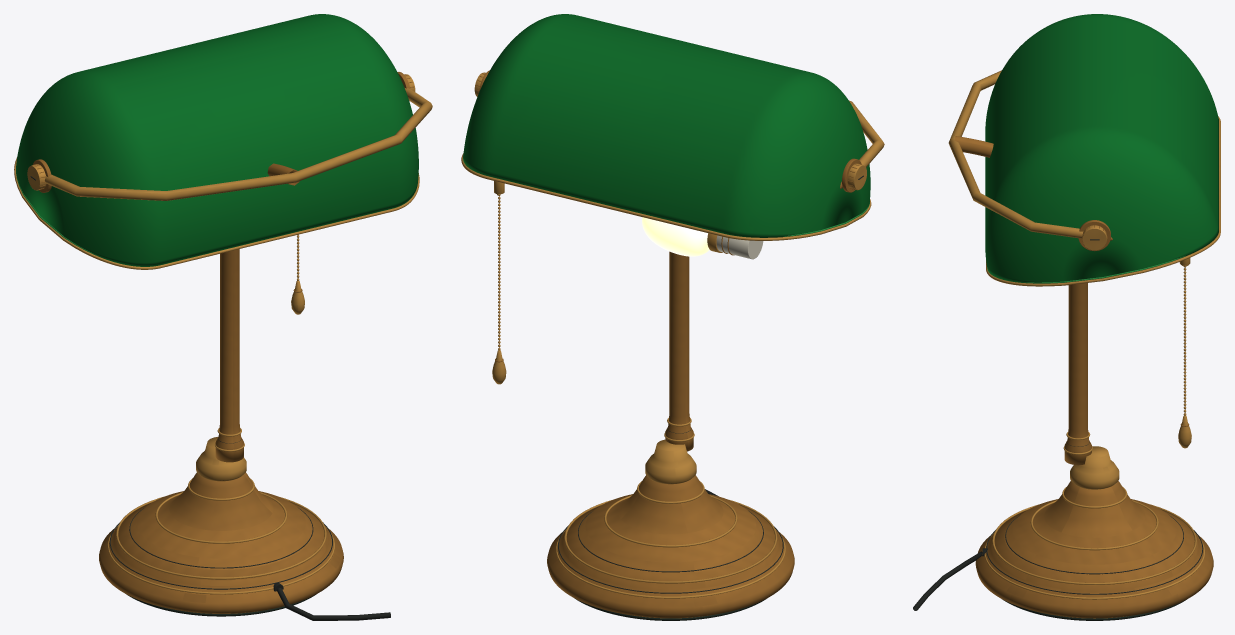
File: BankersLamp.fbx
3 renders of one model, left to right at view 1: azimuth 30°, elevation 25°; view 2: azimuth 150°, elevation 25°; view 3: azimuth 270°, elevation 25°, orthographic. The views are drawn at different scales.
Visible parts, largest first — view 1: Shade_GreenGlass, Base_SpunBrass, Shade_RearYoke, Stem_CurvedBrass, Shade_RolledBrassLip, Stem_Collar, Base_PolishedMolding_02, Cord_RearLead, Base_PolishedMolding_01, Base_PolishedMolding_03; view 2: Shade_GreenGlass, Base_SpunBrass, Stem_CurvedBrass, Stem_Collar, Bulb_OpalTube, Shade_RolledBrassLip, Base_PolishedMolding_02, Socket_CeramicSleeve, Base_PolishedMolding_01, Shade_RearYoke, Base_PolishedMolding_03; view 3: Shade_GreenGlass, Base_SpunBrass, Stem_CurvedBrass, Shade_RearYoke, Stem_Collar, Shade_RolledBrassLip, Base_PolishedMolding_02, Base_PolishedMolding_01, Base_PolishedMolding_03, Stem_RearSwanNeck, Shade_PivotCap_1, Cord_RearLead (+2 smaller).
Part boxes in pixels (<box>): Shade_GreenGlass: <box>16,14,418,266</box>; Base_SpunBrass: <box>99,472,343,613</box>; Shade_RearYoke: <box>45,88,432,200</box>; Stem_CurvedBrass: <box>215,249,243,462</box>; Shade_RolledBrassLip: <box>14,157,419,269</box>; Stem_Collar: <box>196,436,246,481</box>; Base_PolishedMolding_02: <box>116,496,326,579</box>; Cord_RearLead: <box>277,588,390,620</box>; Base_PolishedMolding_01: <box>107,525,334,594</box>; Base_PolishedMolding_03: <box>155,492,287,543</box>; Shade_GreenGlass: <box>463,14,870,237</box>; Base_SpunBrass: <box>547,475,794,618</box>; Stem_CurvedBrass: <box>665,251,693,451</box>; Stem_Collar: <box>645,439,696,484</box>; Bulb_OpalTube: <box>642,217,709,256</box>; Shade_RolledBrassLip: <box>461,153,871,240</box>; Base_PolishedMolding_02: <box>564,500,777,583</box>; Socket_CeramicSleeve: <box>716,235,763,259</box>; Base_PolishedMolding_01: <box>556,529,785,598</box>; Shade_RearYoke: <box>849,100,884,167</box>; Base_PolishedMolding_03: <box>604,495,737,547</box>; Shade_GreenGlass: <box>985,14,1218,283</box>; Base_SpunBrass: <box>975,481,1213,618</box>; Stem_CurvedBrass: <box>1064,283,1091,465</box>; Shade_RearYoke: <box>948,70,1083,238</box>; Stem_Collar: <box>1070,446,1119,489</box>; Shade_RolledBrassLip: <box>986,116,1220,286</box>; Base_PolishedMolding_02: <box>992,504,1196,584</box>; Base_PolishedMolding_01: <box>984,533,1205,599</box>; Base_PolishedMolding_03: <box>1030,500,1158,550</box>; Stem_RearSwanNeck: <box>954,136,993,157</box>; Shade_PivotCap_1: <box>1082,225,1106,250</box>; Cord_RearLead: <box>913,551,982,610</box>.
Size of the model in its own units: 0.3089 by 0.4062 by 0.225.
Materials: 10 (3 with a texture image).
